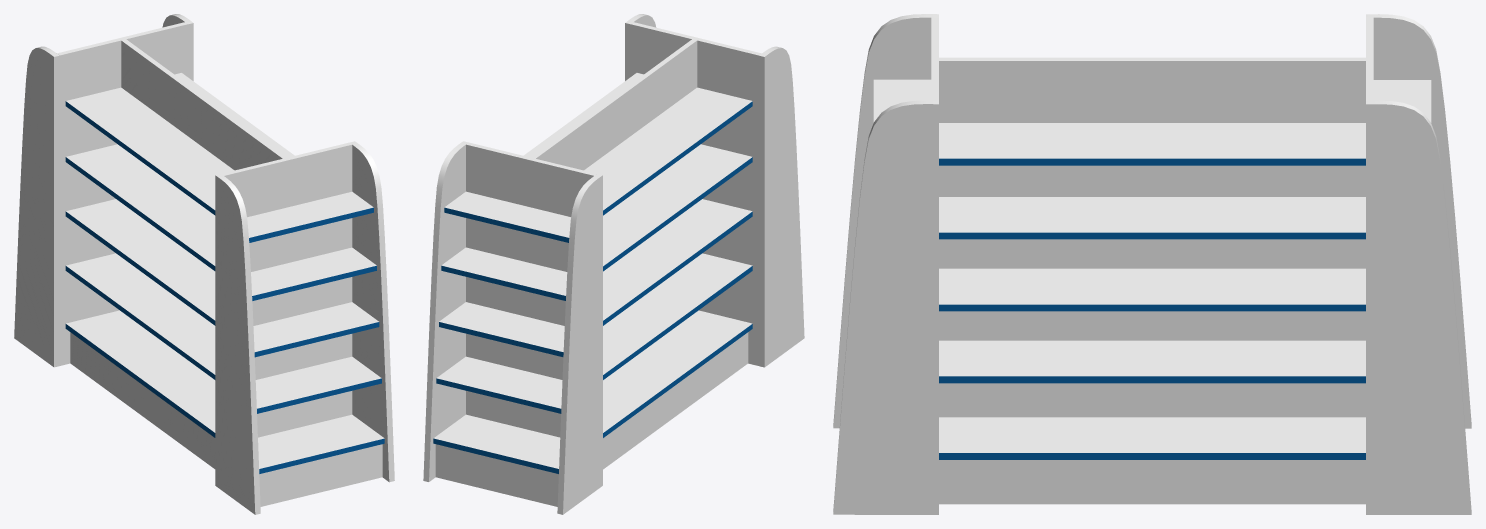
File: Shelving.FBX
3 views of the same model, side by side, from view 1: azimuth 30°, elevation 25°; view 2: azimuth 150°, elevation 25°; view 3: azimuth 270°, elevation 25° (orthographic). The views are drawn at different scales.
Visible parts, largest first — view 1: shelving; view 2: shelving; view 3: shelving.
Boxes of the visible parts, x1=… form: shelving: x1=14, y1=14, x2=394, y2=514; shelving: x1=423, y1=14, x2=804, y2=514; shelving: x1=833, y1=14, x2=1471, y2=514.
Size of the model in its own units: 50.21 by 107 by 150.
1 material, 1 textured.
